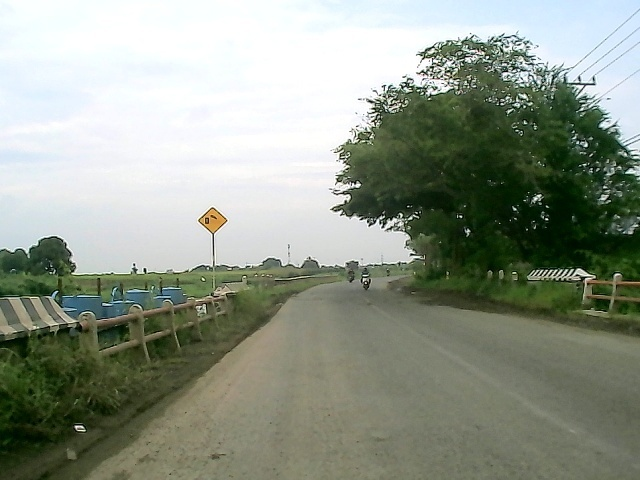Peringatan tepi air: (197, 205, 226, 236)
